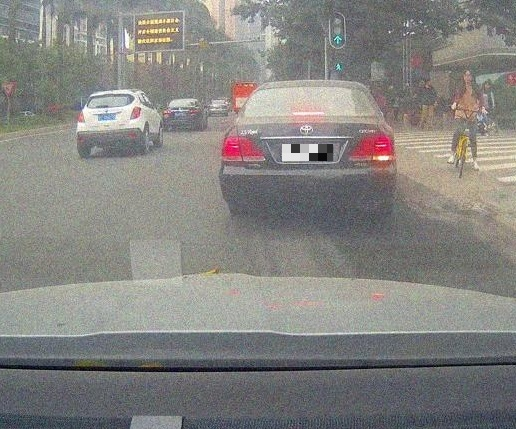L_light: (222, 136, 266, 161), (78, 110, 86, 123), (164, 109, 171, 114)
R_light: (348, 135, 392, 161), (130, 106, 141, 120), (190, 108, 198, 113)
T_light: (293, 111, 325, 116), (105, 94, 114, 97), (181, 100, 187, 102)
day-brake: (219, 80, 395, 215)
day-no: (77, 90, 142, 157), (163, 99, 198, 131)
plate_1: (282, 144, 333, 161)
